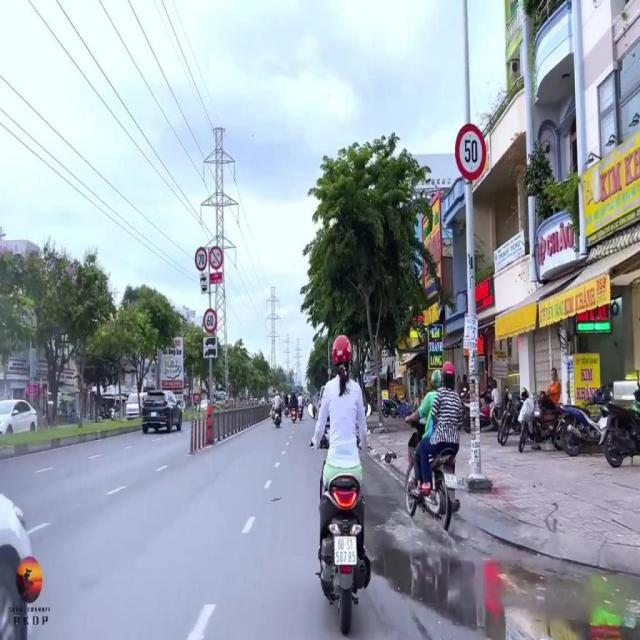cam_xe_2_banh_va_xe_3_banh_co_dong_co: (210, 246, 224, 270)
khac: (194, 246, 208, 272), (204, 348, 218, 358), (204, 337, 218, 347), (200, 283, 208, 294), (200, 272, 208, 283)
toc_do_toi_da_50: (454, 121, 487, 180)
toc_do_toi_da_60: (204, 308, 218, 334)
